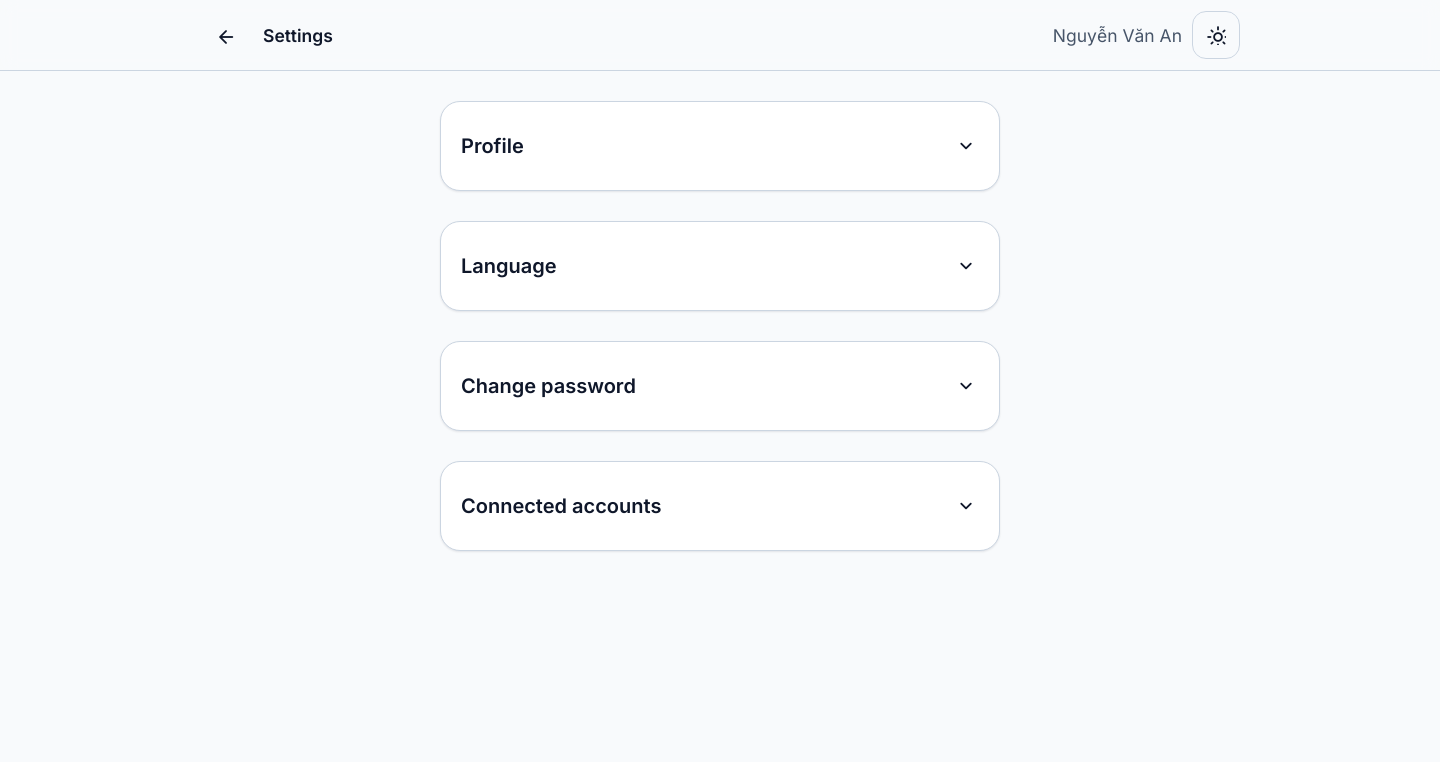
SettingsPage teacher password change › rejects a mismatched password confirmation before making a request
This screenshot has width=1440, height=762.
Click the button with aria-label "Change password settings" at (548, 386), box [461,362,979,410]
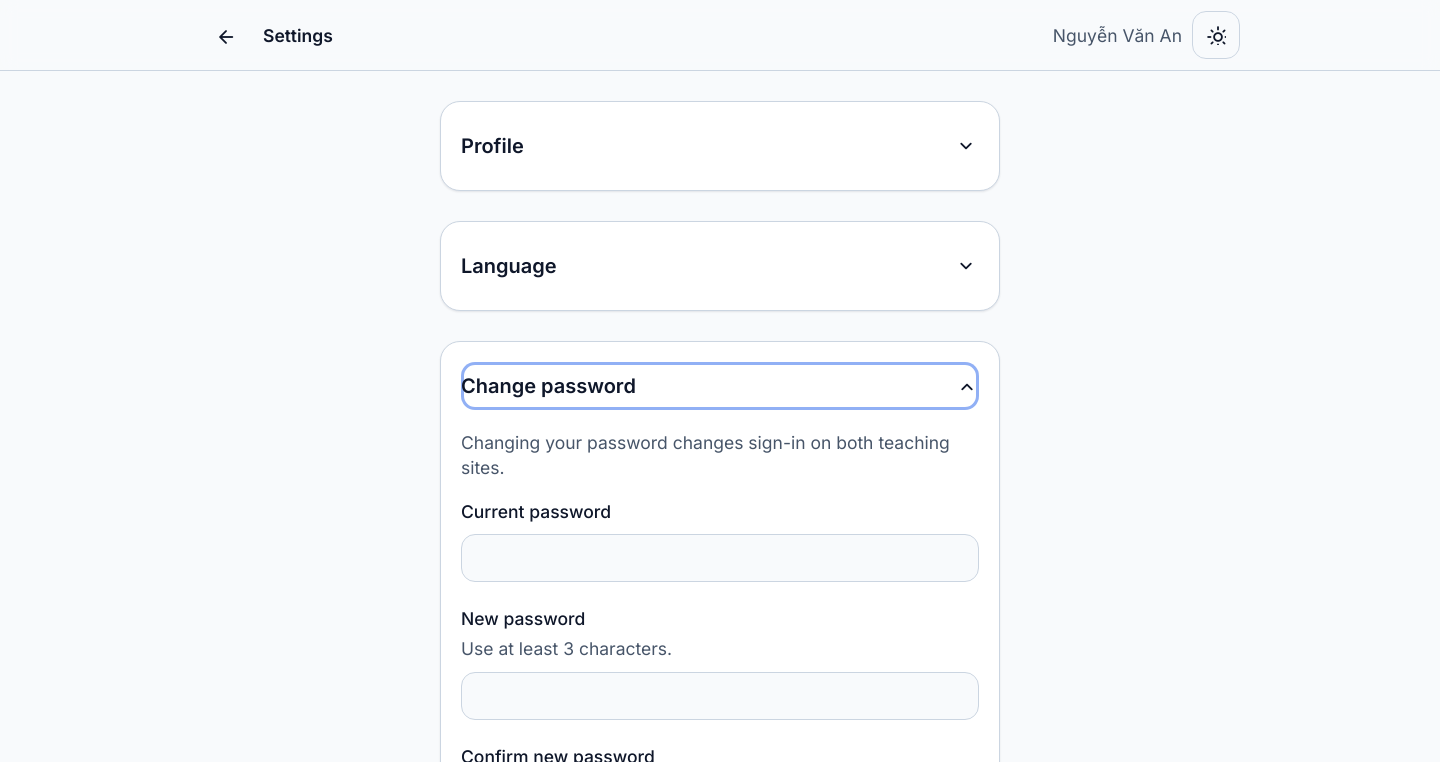
Type "123" into the password field labelled "Current password" at (720, 558), box [461,534,979,582]
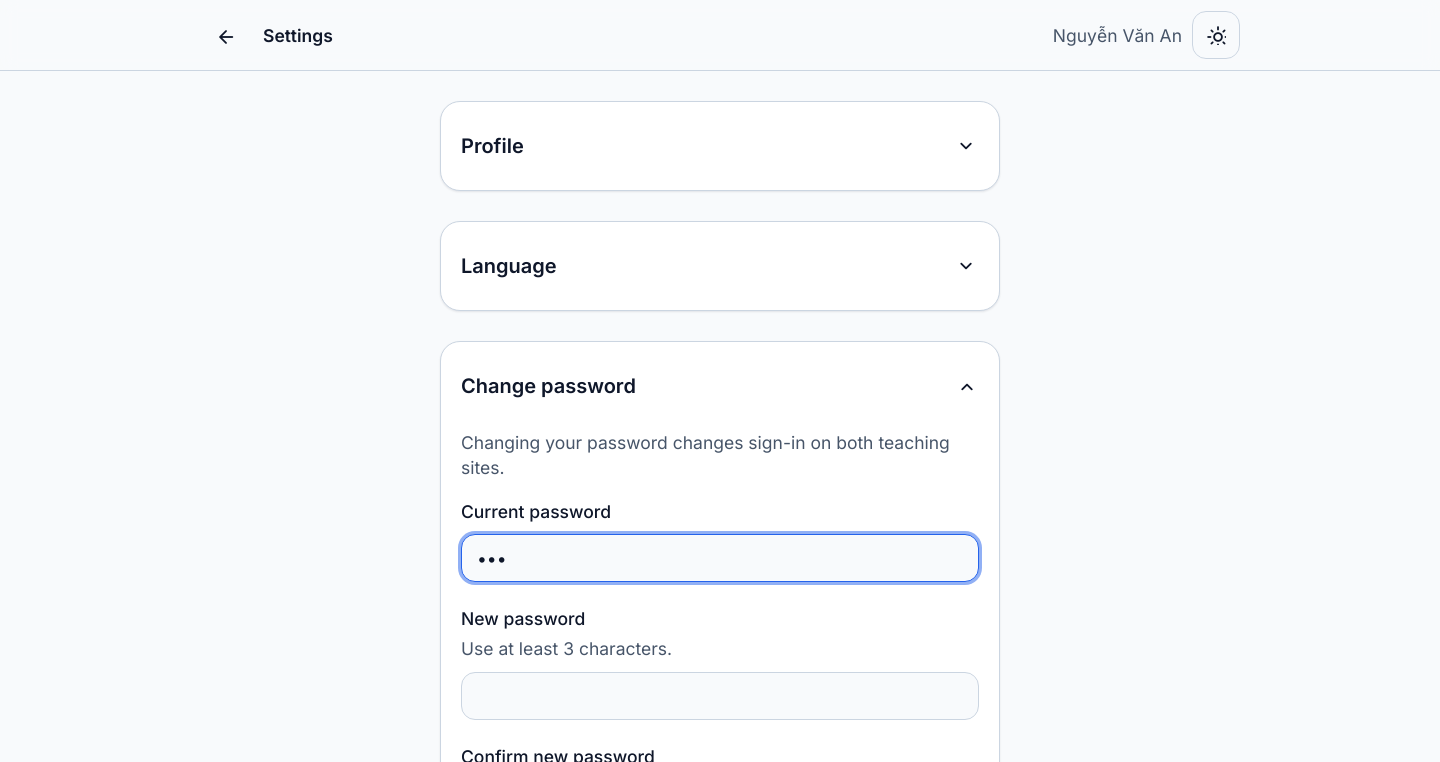
Type "new-password" into the password field labelled "New password" at (720, 696), box [461,672,979,720]
(page scrolled)
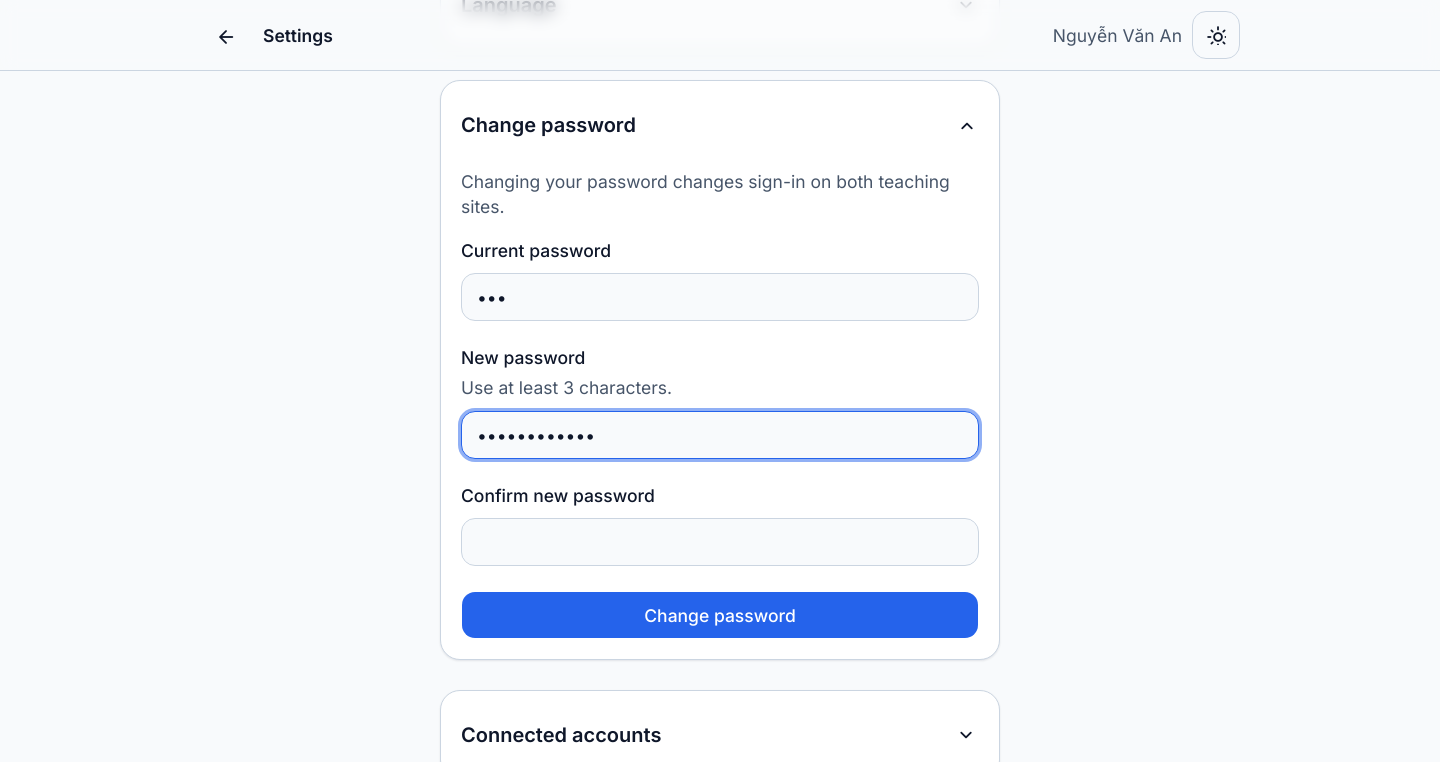
Type "different-password" into the password field labelled "Confirm new password" at (720, 542), box [461,518,979,566]
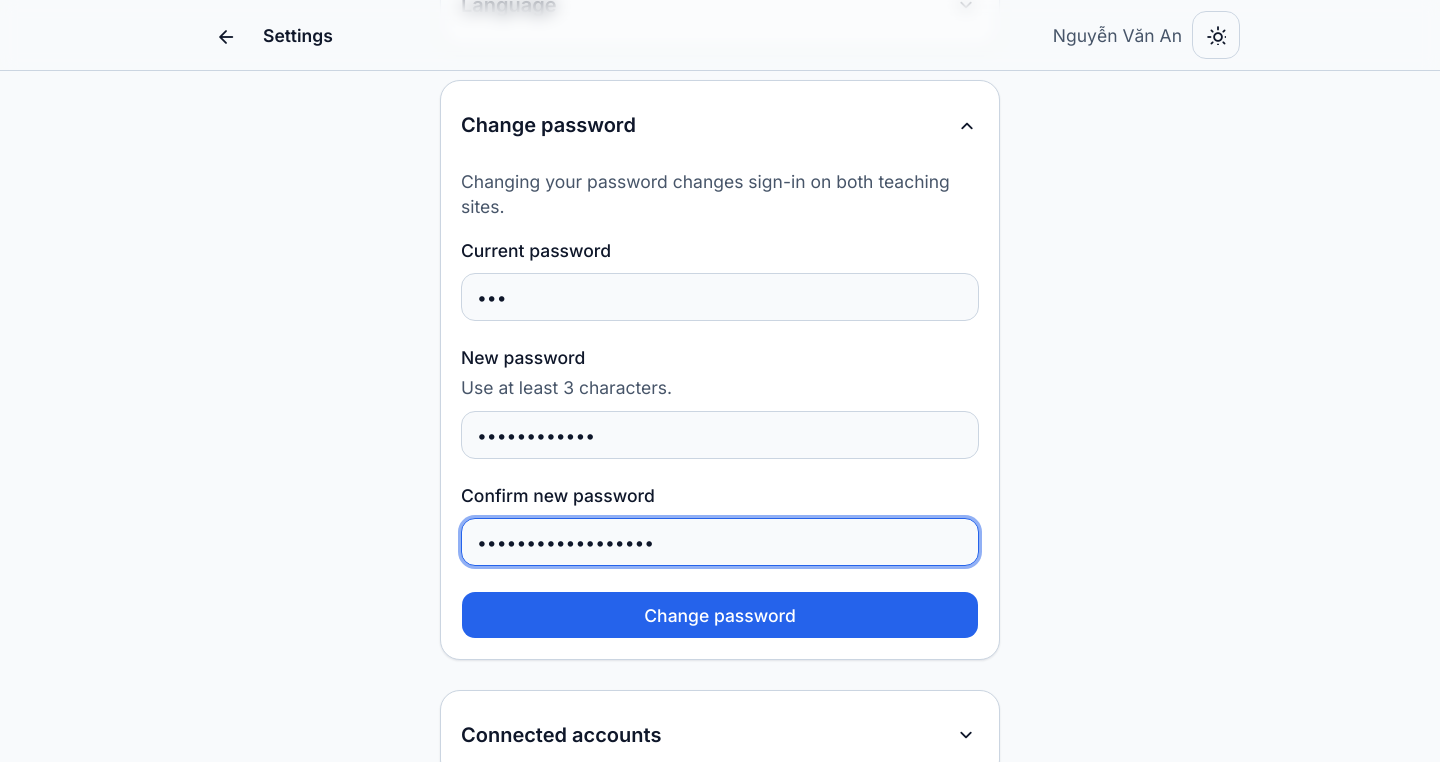
Click the button "Change password" below "Confirm new password" at (720, 615), box [461,591,979,639]
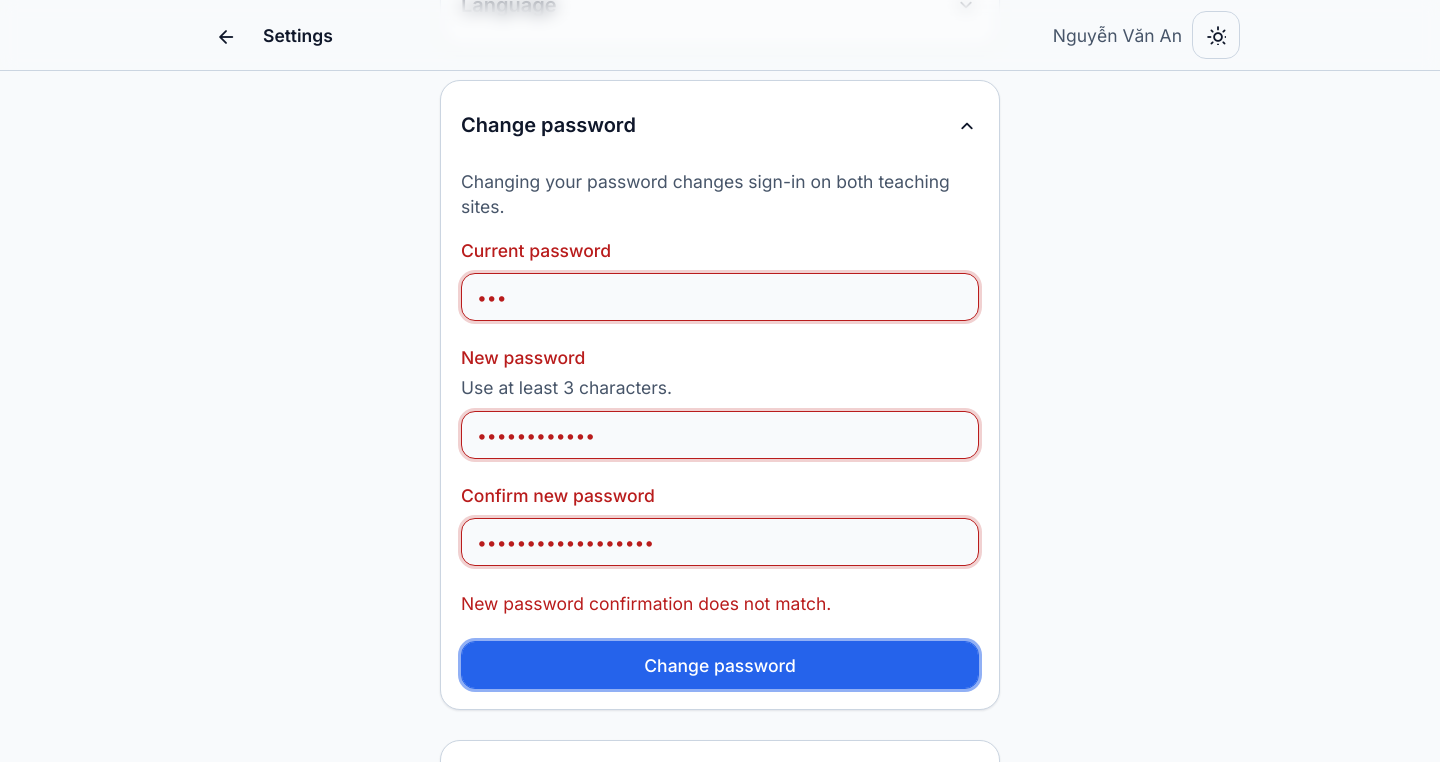
expect the text "New password confirmation does not match." is shown: met, box [461,593,831,614]
